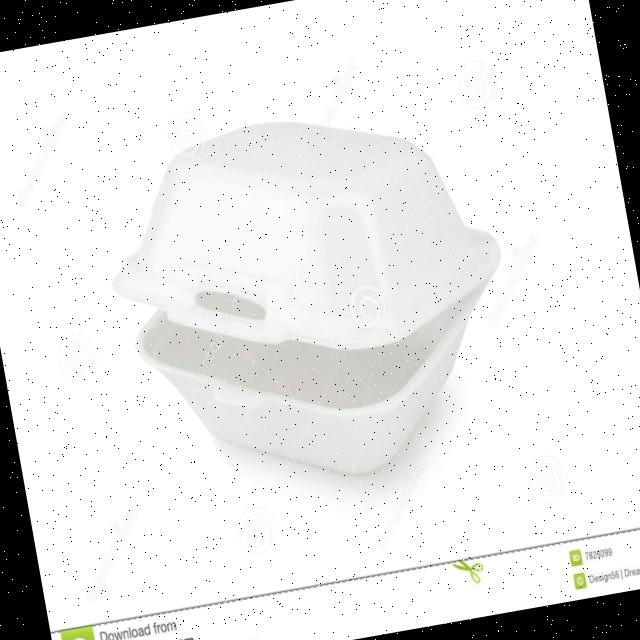styrofoam: (88, 81, 536, 512)
